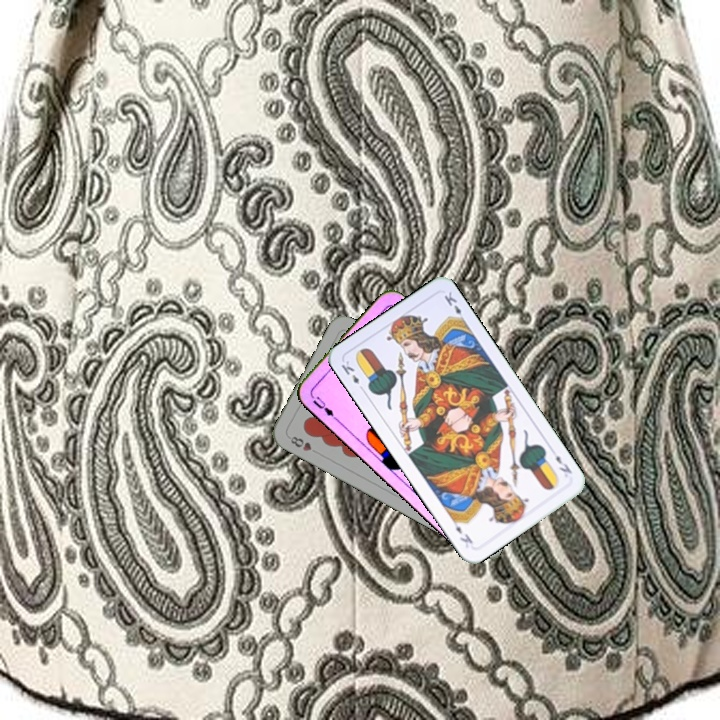EK: (337, 356, 367, 394), (551, 451, 575, 476)
EU: (307, 390, 340, 422)
H8: (286, 432, 322, 457)
